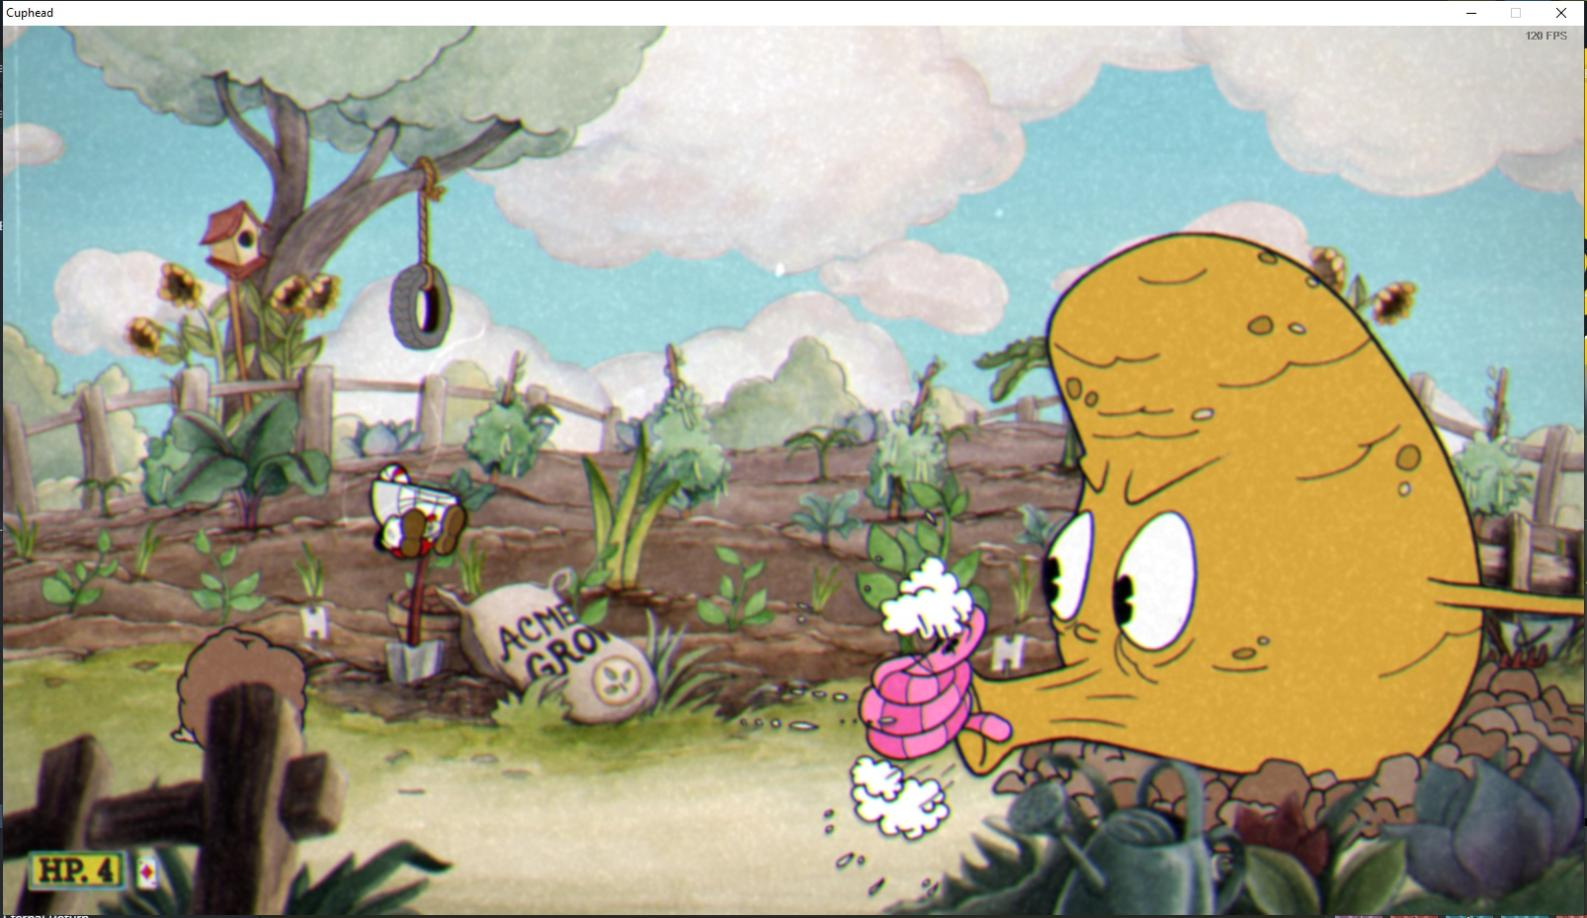dirt: (133, 594, 333, 768)
hp4: (90, 849, 126, 892)
player: (348, 455, 475, 576)
potato_boss: (968, 226, 1504, 806)
worm: (832, 587, 1020, 796)
